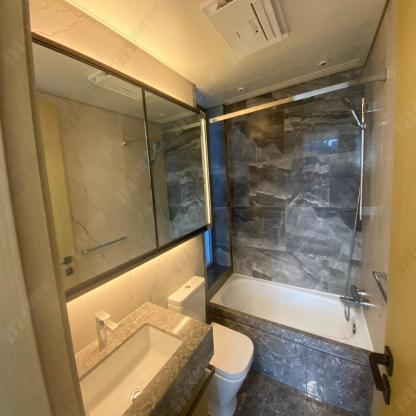Bathtub: (207, 271, 376, 416)
Toilet: (207, 321, 255, 415), (167, 274, 206, 324)
Toilet Sink: (75, 302, 214, 416)
